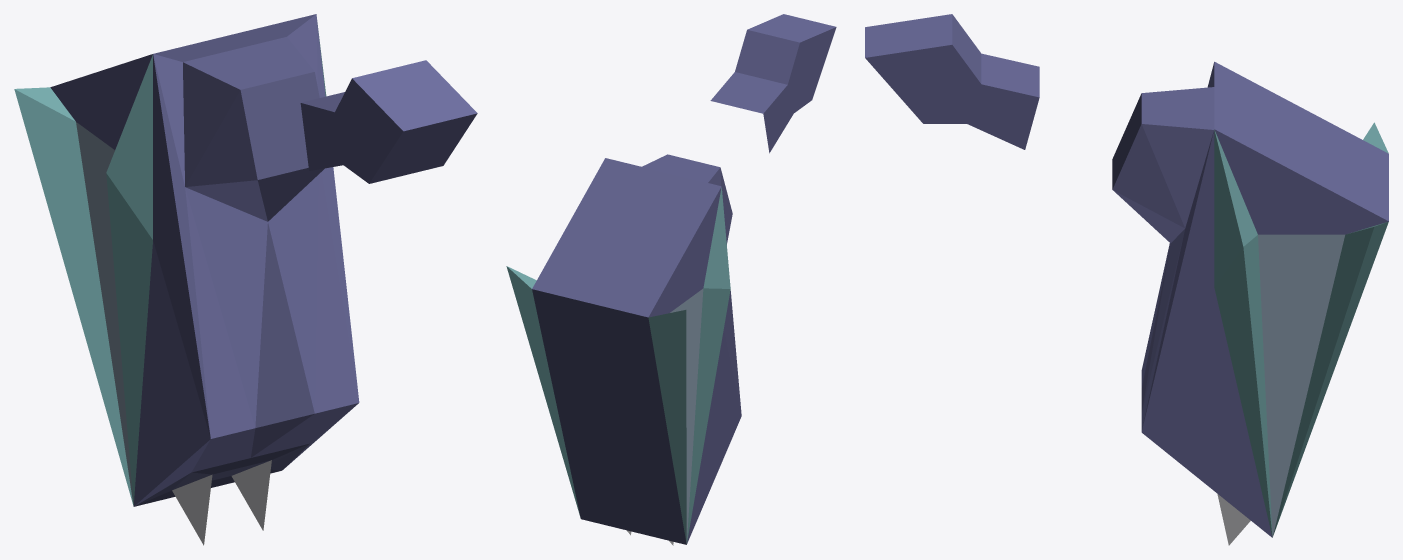
The picture shows the model from 3 angles, left to right: view 1: azimuth 30°, elevation 25°; view 2: azimuth 150°, elevation 25°; view 3: azimuth 270°, elevation 25°; orthographic projection. The views are drawn at different scales.
Bounding box in the file's own units: 17 × 38 × 36.
1 material, 1 textured.
